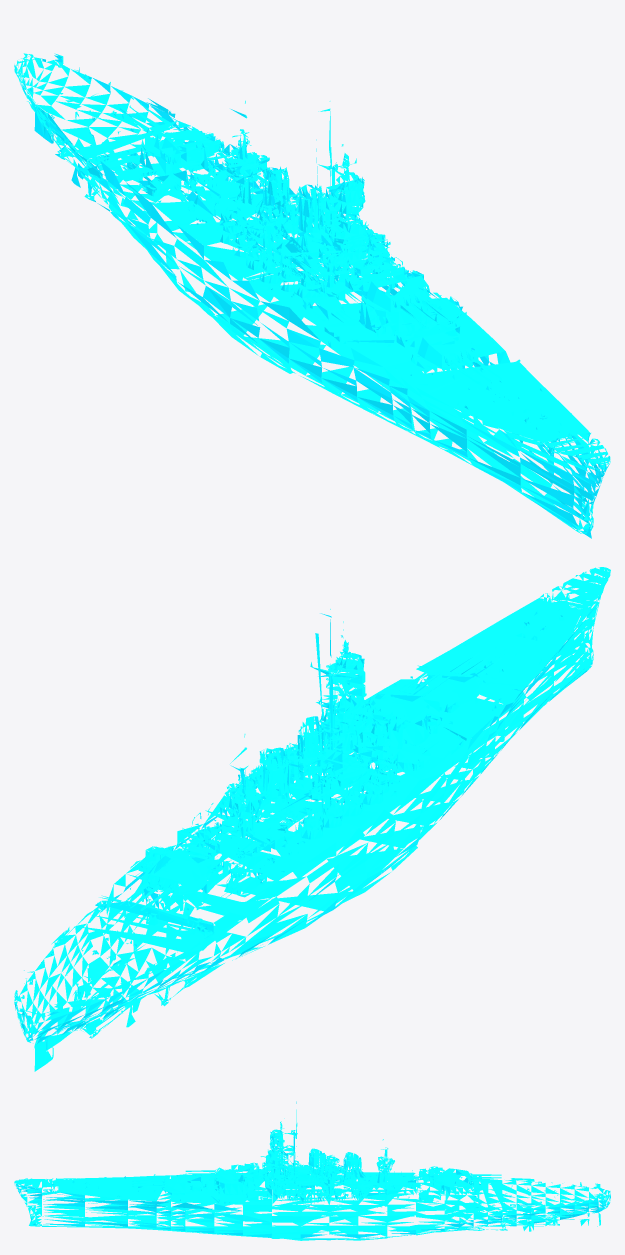
Rendered from PISB908.glb.
The picture shows the model from 3 angles, top to bottom: view 1: azimuth 30°, elevation 25°; view 2: azimuth 150°, elevation 25°; view 3: azimuth 270°, elevation 25°; orthographic projection. The views are drawn at different scales.
Parts seen in each view (by area): view 1: hull, turret; view 2: hull, turret; view 3: hull, turret.
Boxes of the visible parts, x1,y1,x2,y2 form: hull: (14,53,610,538); turret: (118,103,501,385); hull: (14,567,610,1071); turret: (119,652,502,910); hull: (14,1101,610,1240); turret: (132,1162,501,1202).
Size of the model in its own units: 2.19 by 3.72 by 15.89.
